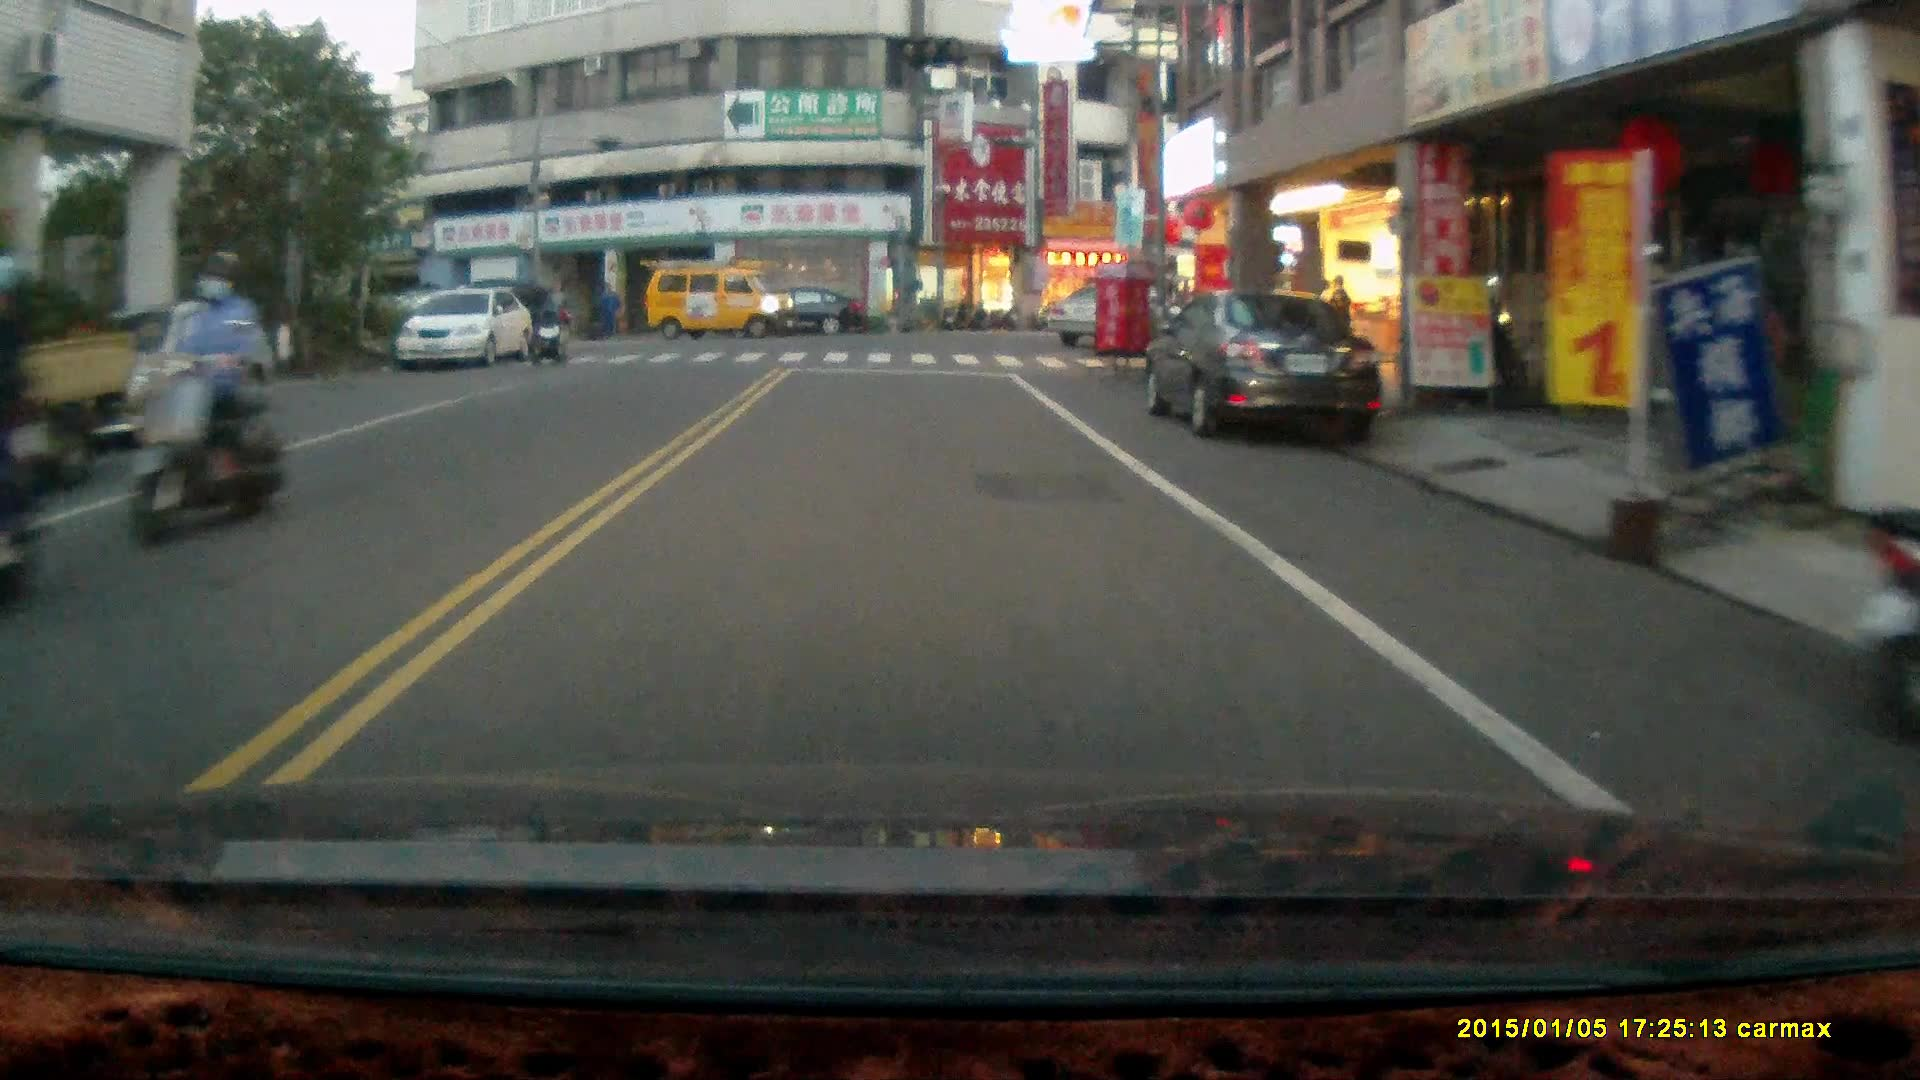pedestrian: (1329, 275, 1355, 366), (543, 276, 568, 346)
rider: (121, 252, 282, 549), (0, 255, 49, 621), (525, 302, 573, 367)
vehicle: (1143, 291, 1391, 453), (1, 276, 177, 501), (51, 296, 268, 439), (1041, 276, 1225, 352), (645, 255, 796, 341), (402, 288, 534, 372), (740, 284, 868, 335)
